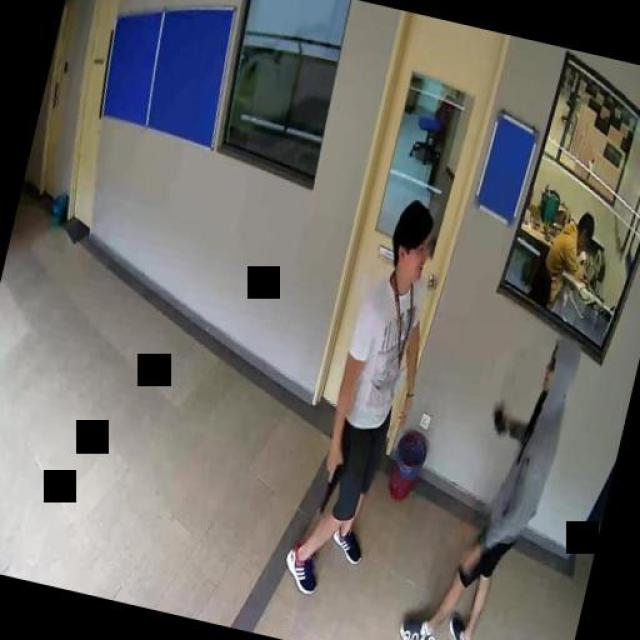gun: (315, 448, 346, 512)
